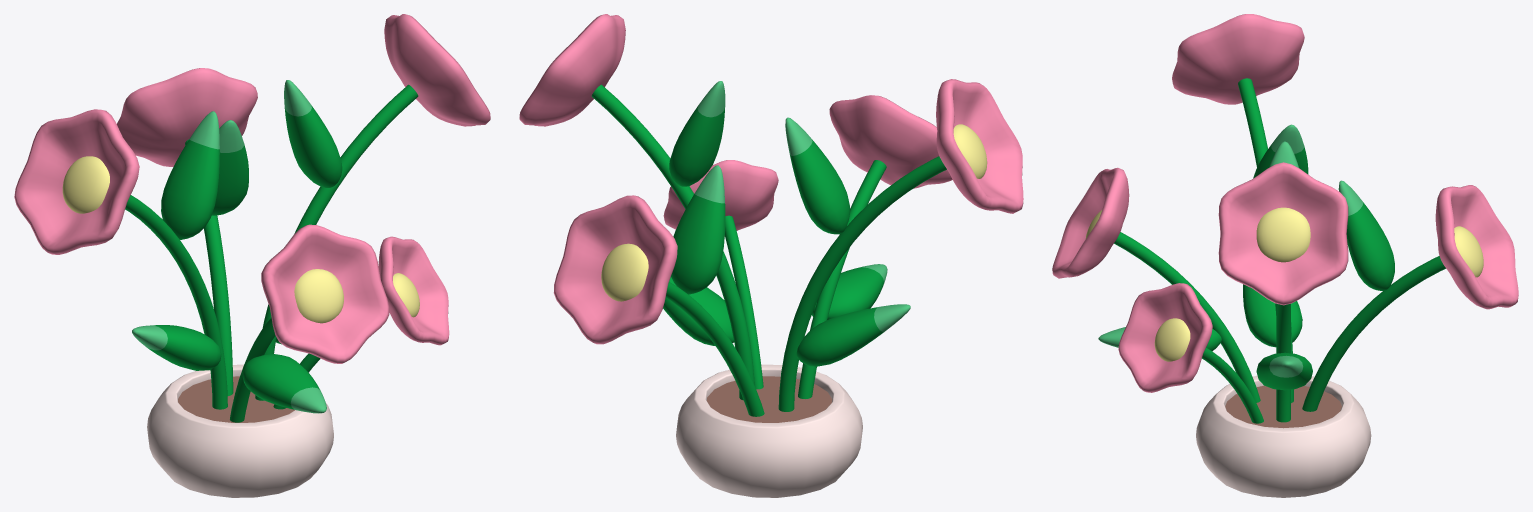
Rendered from City_15_Flowers_1.glb.
3 renders of one model, left to right at view 1: azimuth 30°, elevation 25°; view 2: azimuth 150°, elevation 25°; view 3: azimuth 270°, elevation 25°, orthographic. The views are drawn at different scales.
Visible parts, largest first — view 1: City_15_Flowers_1; view 2: City_15_Flowers_1; view 3: City_15_Flowers_1.
Boxes of the visible parts, x1,y1,x2,y2 form: City_15_Flowers_1: (14, 14, 490, 497); City_15_Flowers_1: (519, 14, 1023, 497); City_15_Flowers_1: (1052, 14, 1518, 497).
Bounding box in the file's own units: 1.06 × 0.9074 × 1.
1 material, 1 textured.
